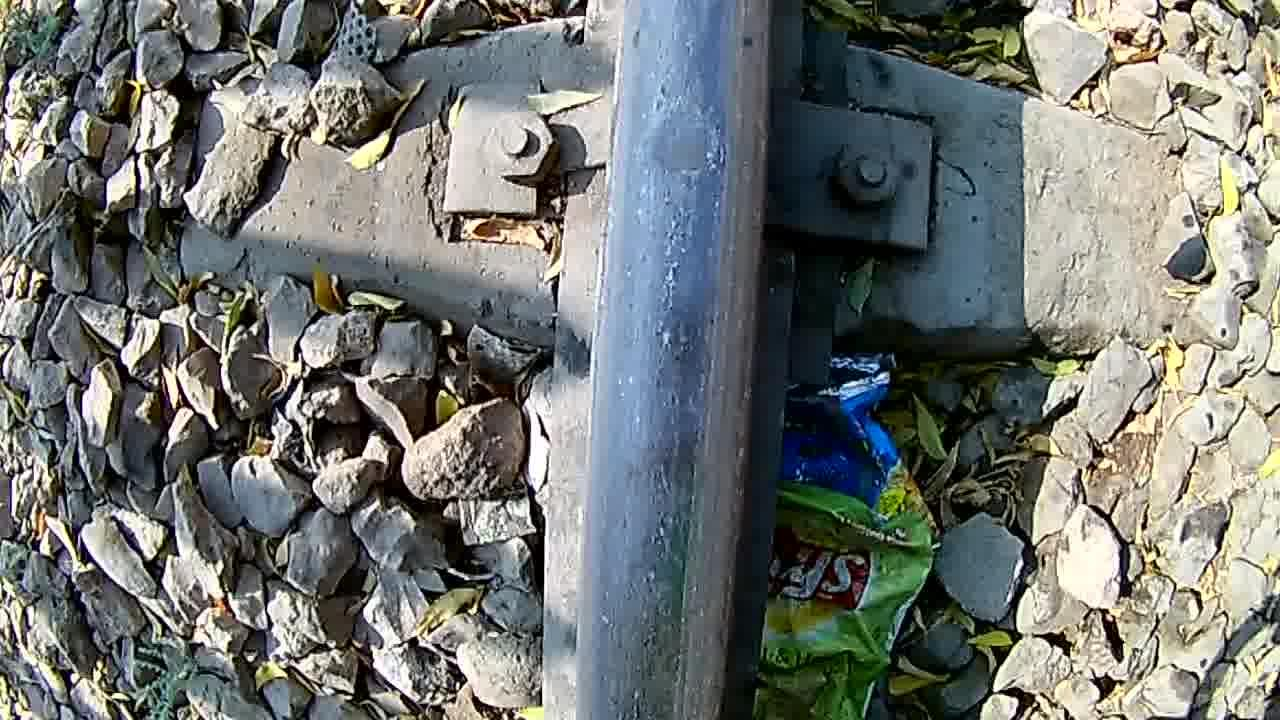bolt_missing: (603, 19, 756, 587)
